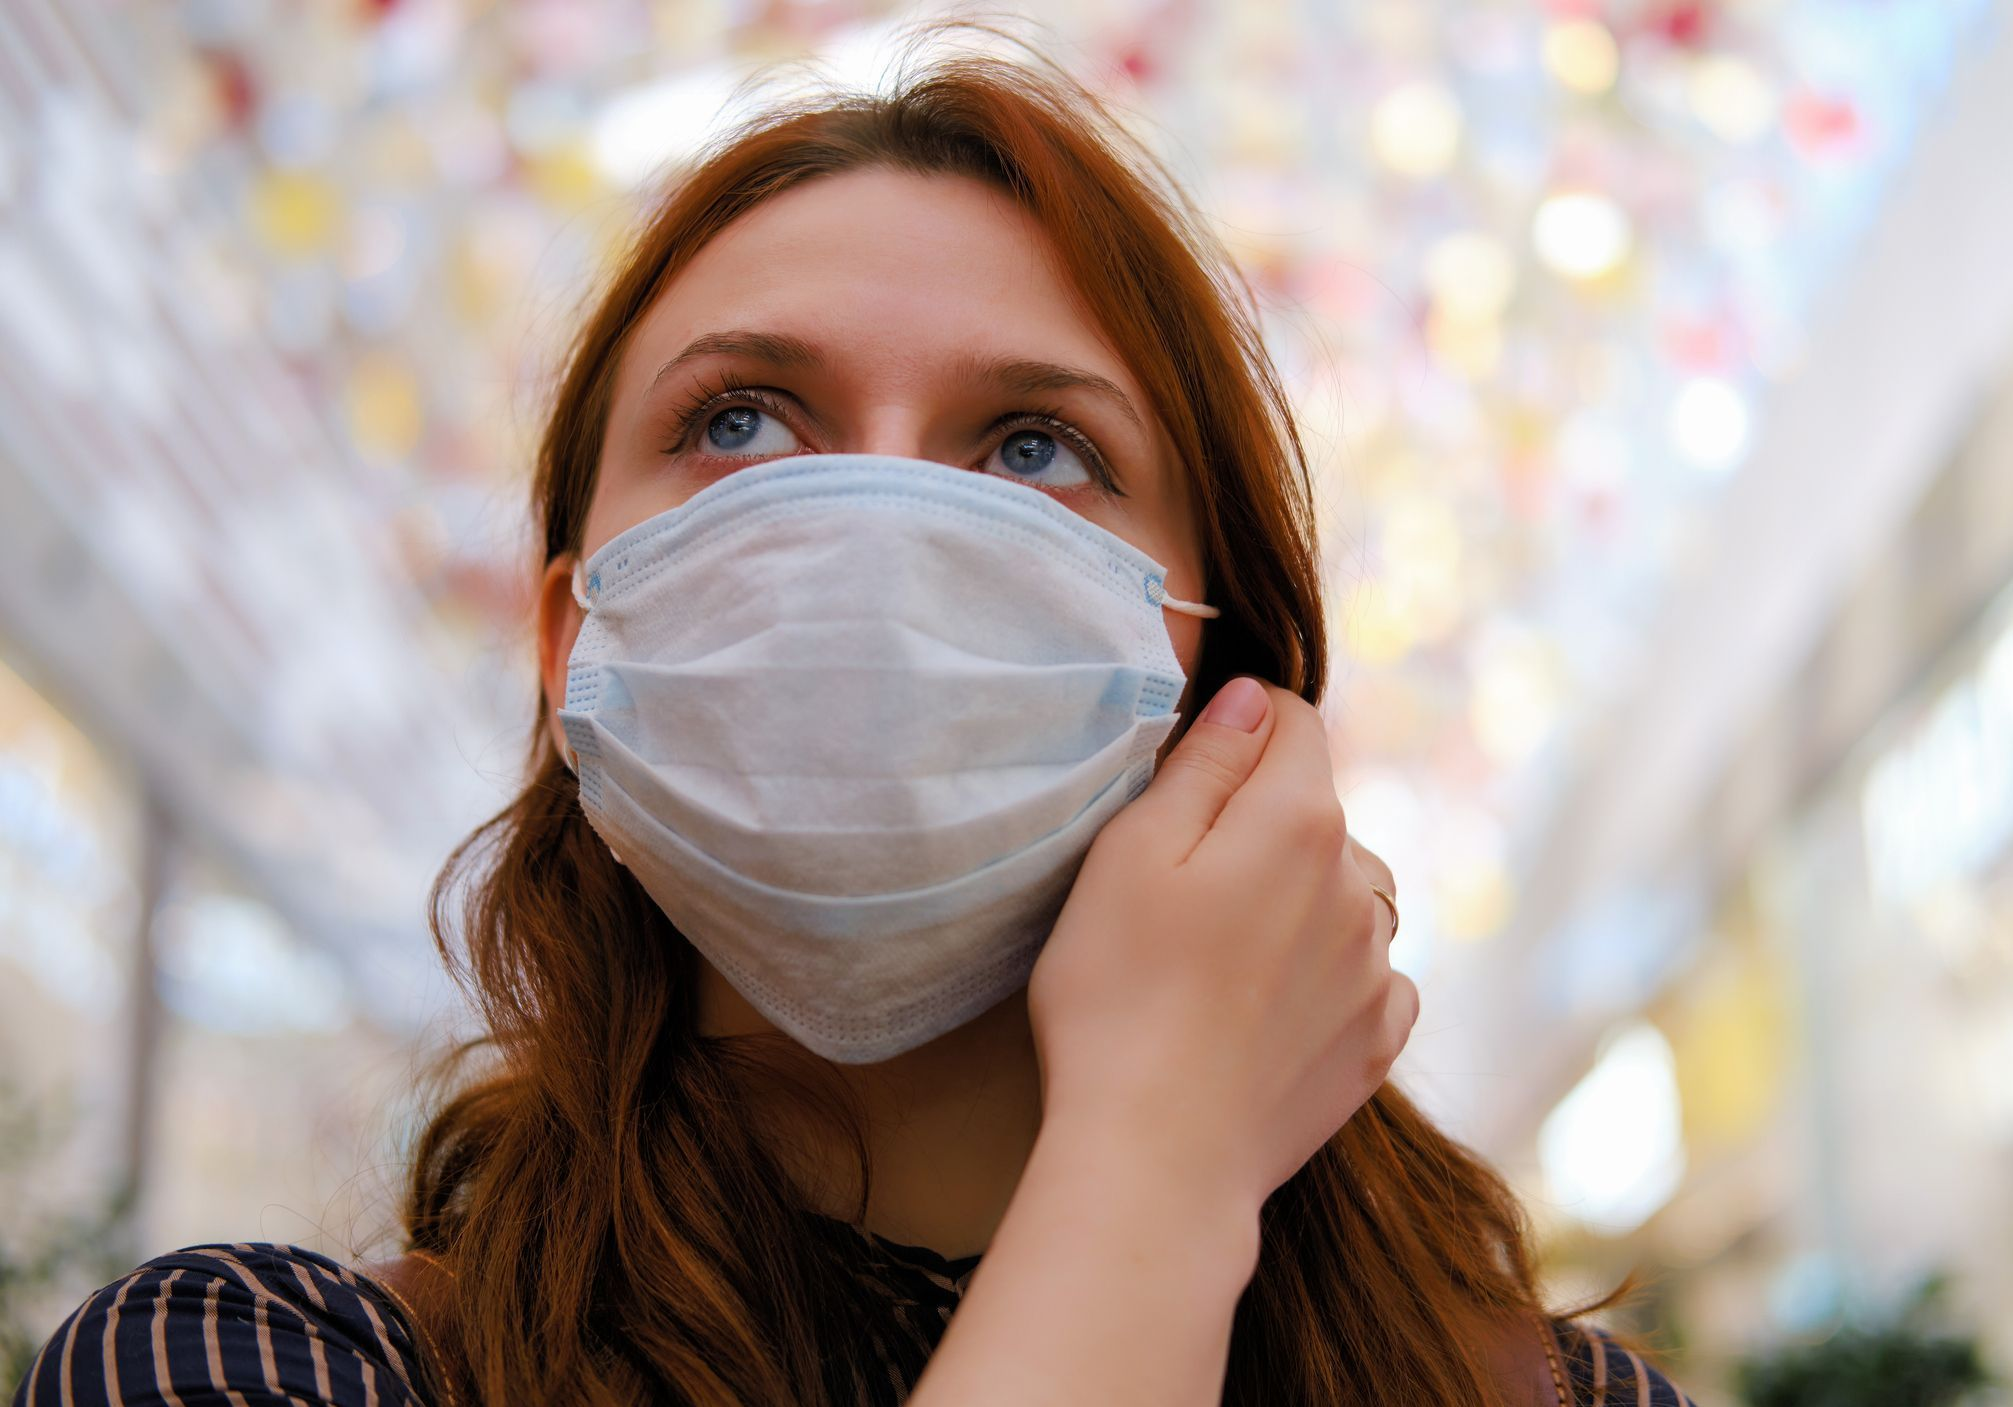with_mask: (623, 311, 1162, 942)
